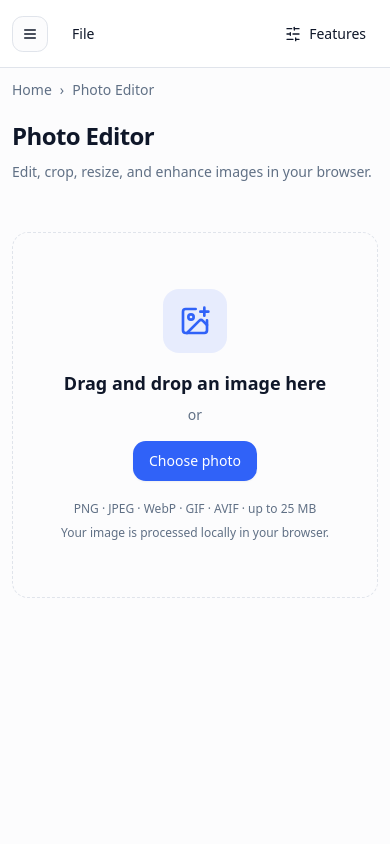
Test: PhotoEditor workspace UX acceptance › keeps the mobile feature list menu compact and scrollable instead of full-width
The width and height of the screenshot is (390, 844).
Click the button with aria-label "Open photo editor features" at x=326, y=34, box 273,16 -> 378,52
(page scrolled)
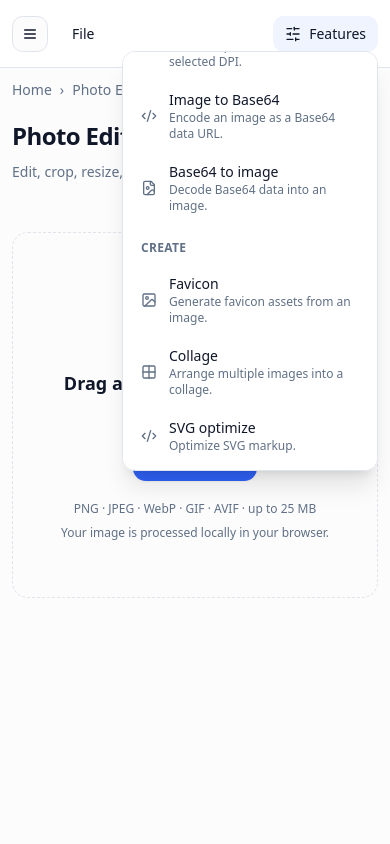
Check: the button "SVG optimize Optimize SVG markup." is shown, box 129,408 -> 371,464
